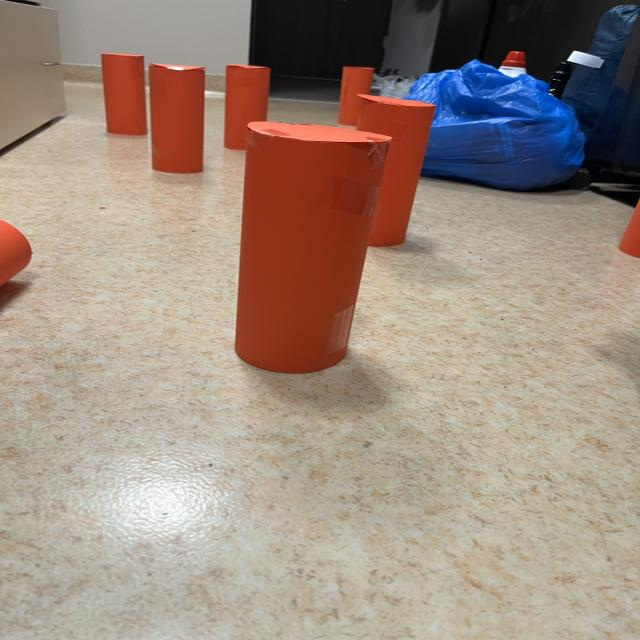przeszkoda: (235, 122, 390, 373), (356, 94, 435, 247), (149, 64, 205, 173), (225, 65, 276, 150), (102, 54, 146, 135), (338, 66, 374, 126)
